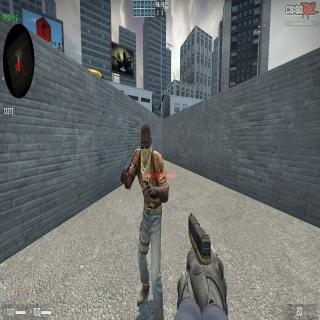T-Body: (120, 124, 170, 320)
T-Head: (140, 124, 152, 163)
